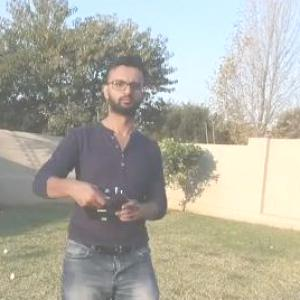follow: (29, 49, 171, 299)
